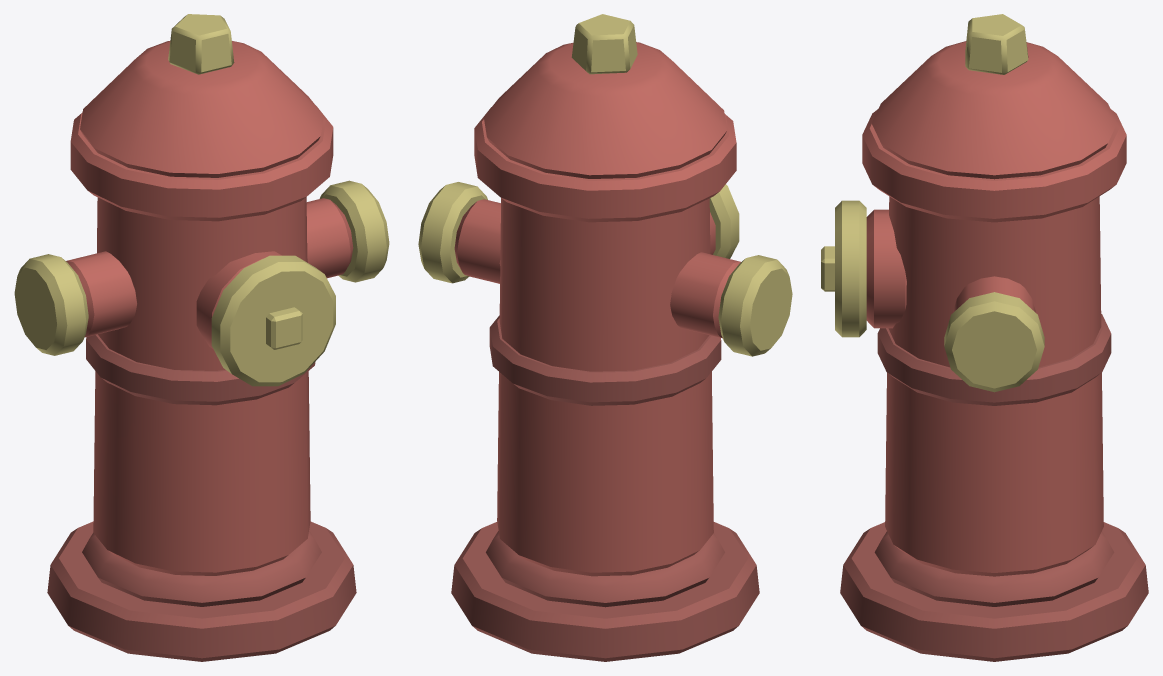
Rendered from hydrant.glb.
The picture shows the model from 3 angles, left to right: view 1: azimuth 30°, elevation 25°; view 2: azimuth 150°, elevation 25°; view 3: azimuth 270°, elevation 25°; orthographic projection.
Parts seen in each view (by area): view 1: Hydrant; view 2: Hydrant; view 3: Hydrant.
Boxes of the visible parts, <box> form: Hydrant: <box>14,14,389,661</box>; Hydrant: <box>418,14,792,661</box>; Hydrant: <box>821,14,1148,661</box>.
Size of the model in its own units: 0.42 by 0.695 by 0.3592.
